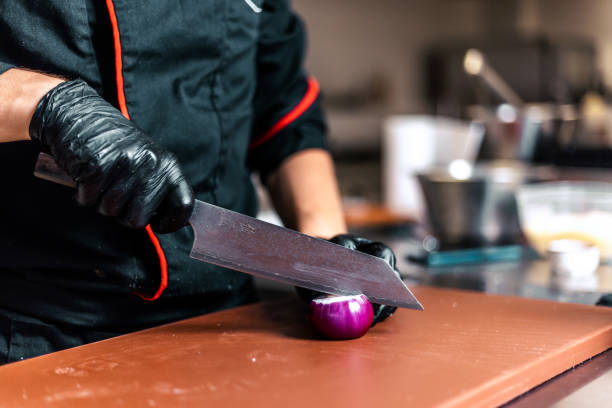knife: (31, 150, 427, 310)
